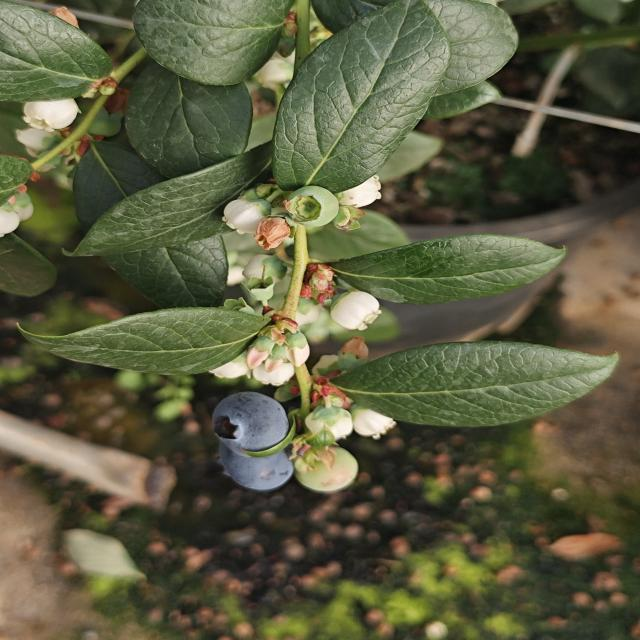ripe: (208, 389, 301, 454), (215, 431, 296, 493)
